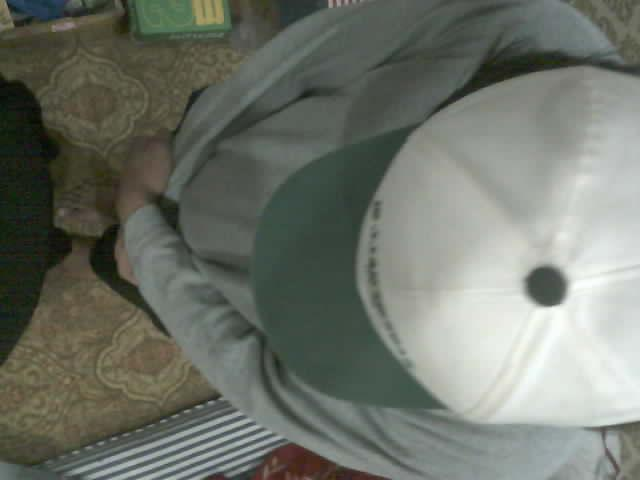cap: (248, 62, 639, 427)
